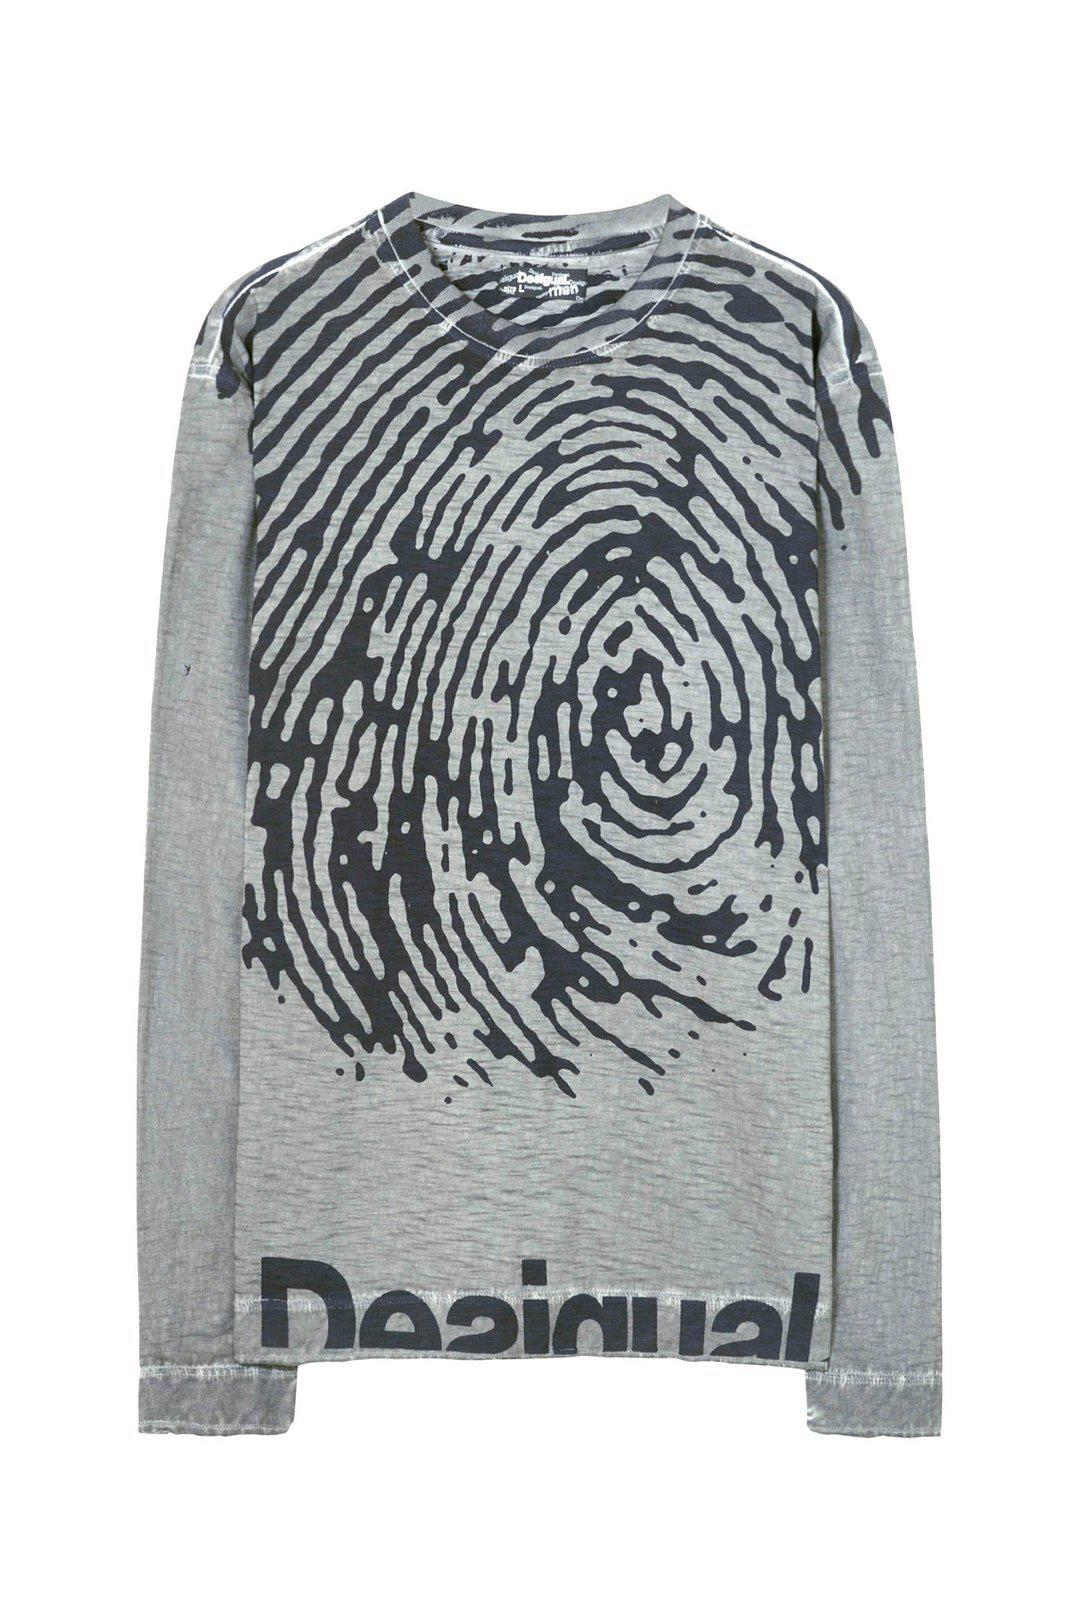teeshirt: (86, 184, 1031, 1551)
